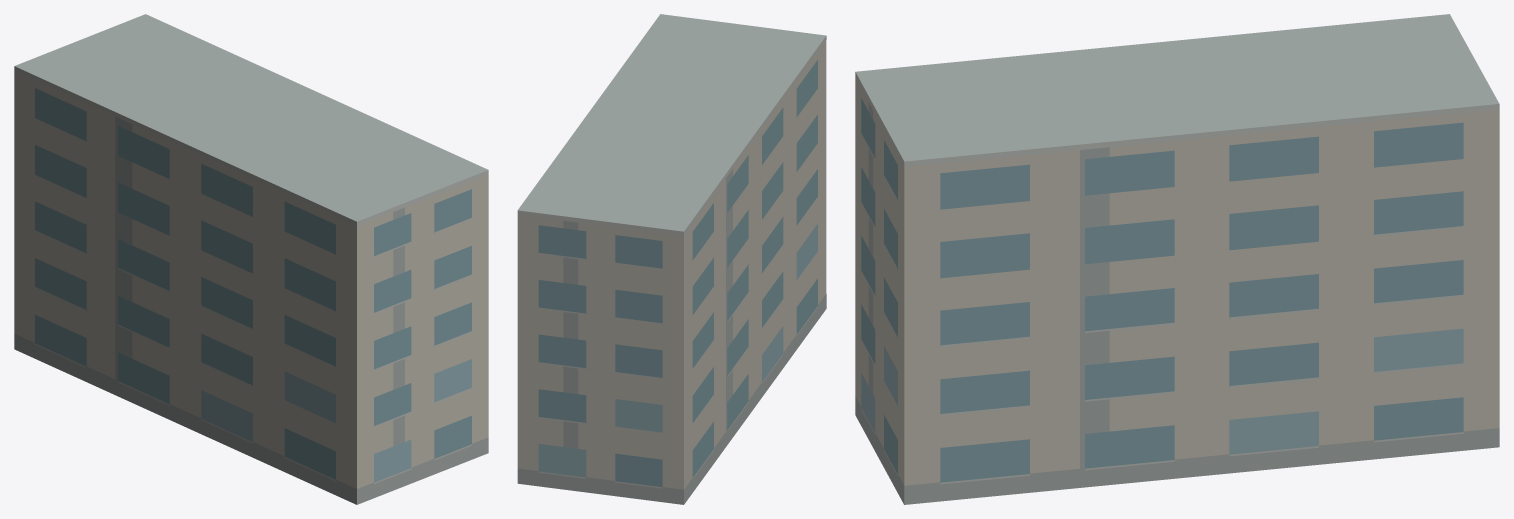
The model's file is survey-upis-32800400.glb.
3 views of the same model, side by side, from view 1: azimuth 30°, elevation 25°; view 2: azimuth 150°, elevation 25°; view 3: azimuth 270°, elevation 25° (orthographic). The views are drawn at different scales.
Visible parts, largest first — view 1: survey-upis-32800400.tmp; view 2: survey-upis-32800400.tmp; view 3: survey-upis-32800400.tmp.
Part boxes in pixels (box(x1,y1,x2,y2)): survey-upis-32800400.tmp: box(14, 14, 488, 504); survey-upis-32800400.tmp: box(517, 14, 826, 504); survey-upis-32800400.tmp: box(855, 14, 1499, 504).
Size of the model in its own units: 13.88 by 15.05 by 25.6.
